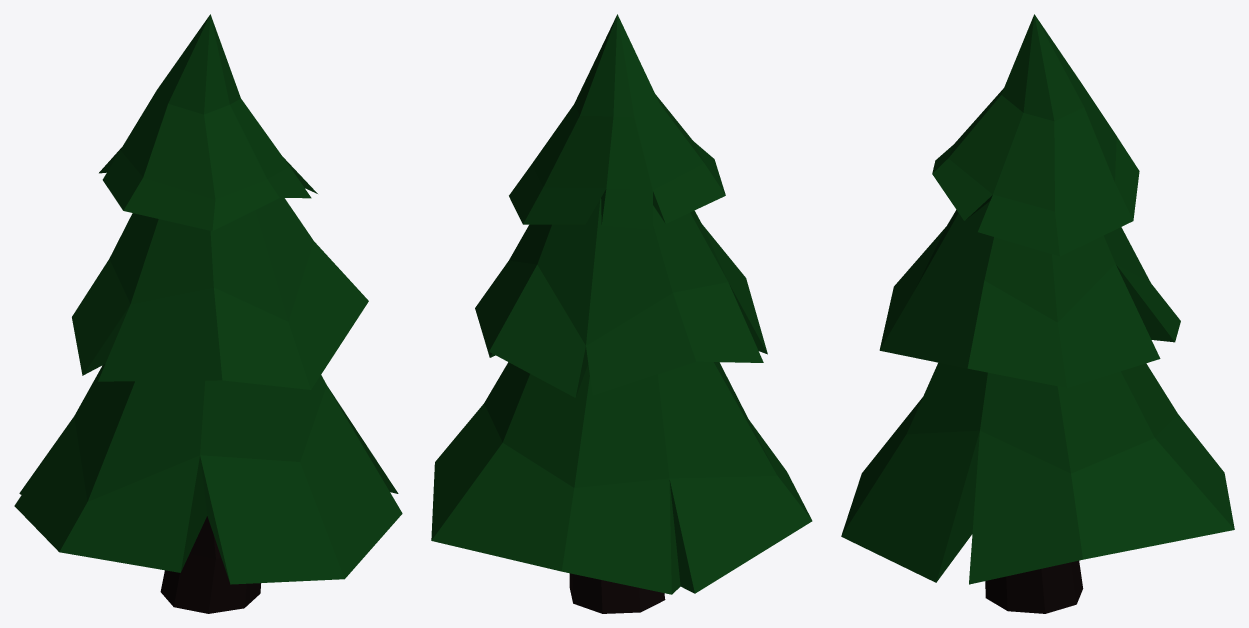
The model's file is lp_conifer6_Cylinder_001.obj.
3 views of the same model, side by side, from view 1: azimuth 30°, elevation 25°; view 2: azimuth 150°, elevation 25°; view 3: azimuth 270°, elevation 25° (orthographic).
Visible parts, largest first — view 1: lp_conifer6_Cylinder_001; view 2: lp_conifer6_Cylinder_001; view 3: lp_conifer6_Cylinder_001.
Part boxes in pixels (x1,y1,x2,y2): lp_conifer6_Cylinder_001: (14,14,402,613); lp_conifer6_Cylinder_001: (431,14,812,613); lp_conifer6_Cylinder_001: (841,14,1234,613).
Bounding box in the file's own units: 6.2 × 10.35 × 6.38.
